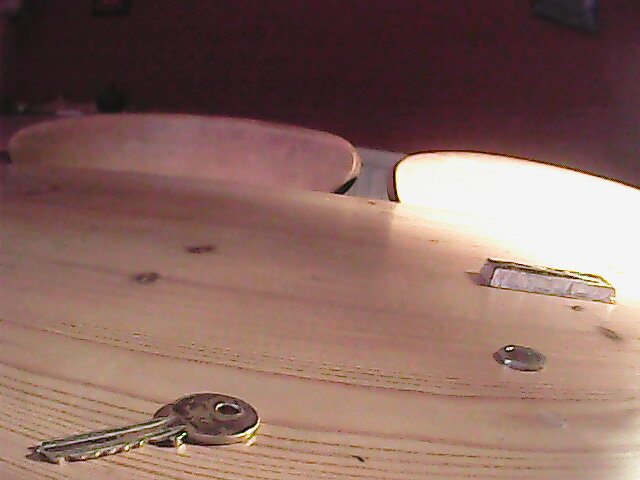Coin: (495, 343, 551, 373)
Foil: (477, 251, 618, 307)
Key: (36, 388, 259, 464)
